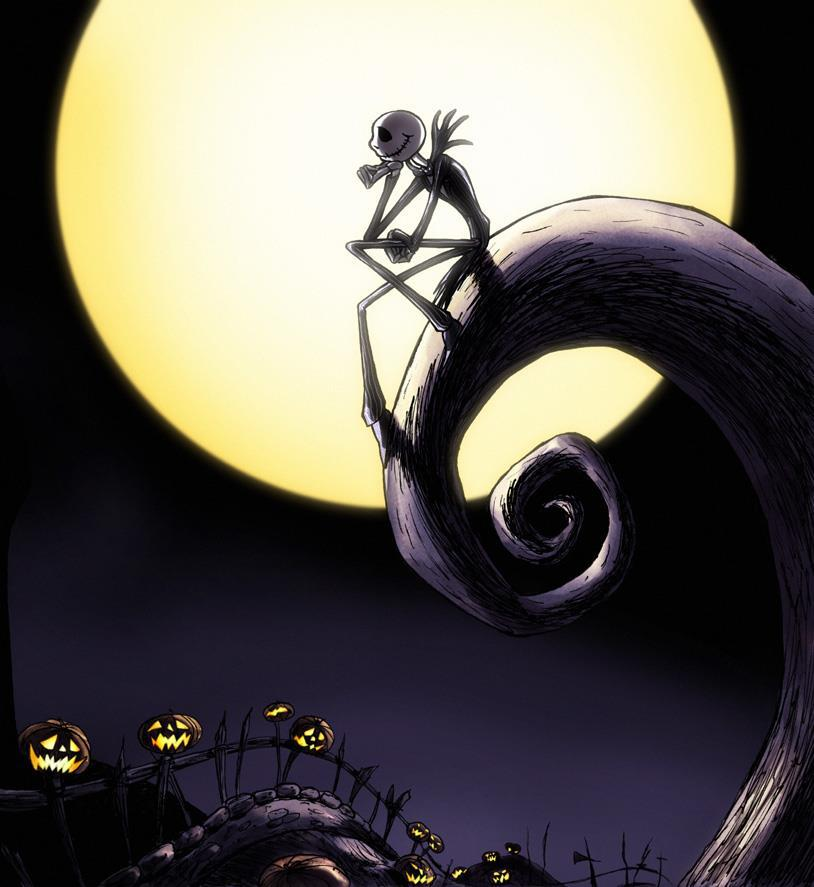Jack Skellington: (345, 108, 492, 472)
